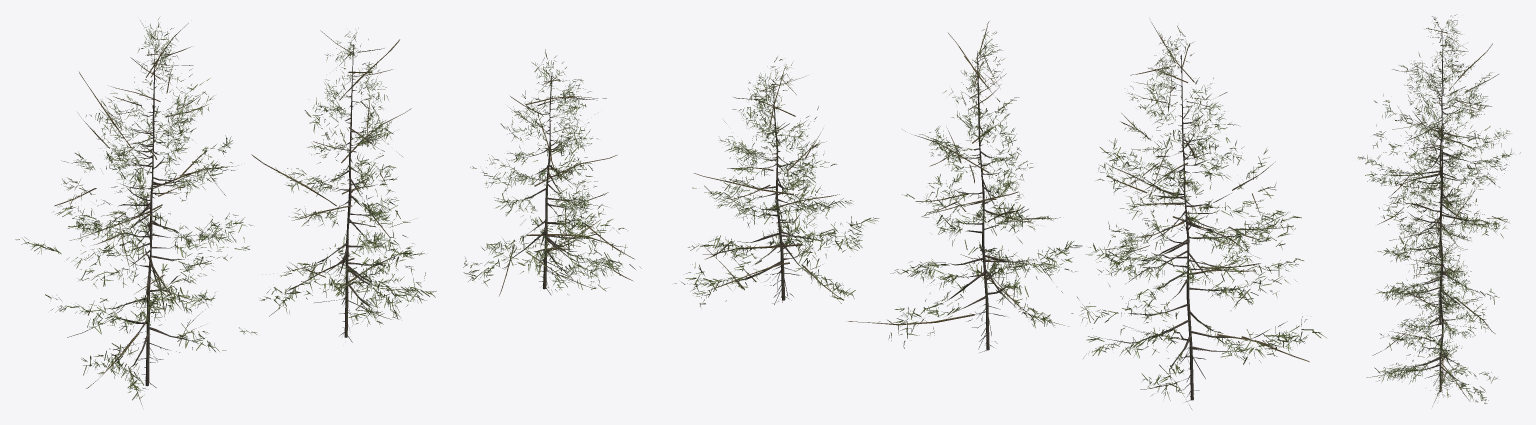
Rendered from fir_far.glb.
3 renders of one model, left to right at view 1: azimuth 30°, elevation 25°; view 2: azimuth 150°, elevation 25°; view 3: azimuth 270°, elevation 25°, orthographic. The views are drawn at different scales.
Visible parts, largest first — view 1: fir_sapling_medium_a_LOD0; view 2: fir_sapling_medium_a_LOD0; view 3: fir_sapling_medium_a_LOD0.
Part boxes in pixels (<box>): fir_sapling_medium_a_LOD0: <box>15,17,641,406</box>; fir_sapling_medium_a_LOD0: <box>674,21,1326,408</box>; fir_sapling_medium_a_LOD0: <box>1357,14,1520,406</box>.
Bounding box in the file's own units: 14.7 × 8.85 × 5.21.
Materials: 3 (3 with a texture image).
